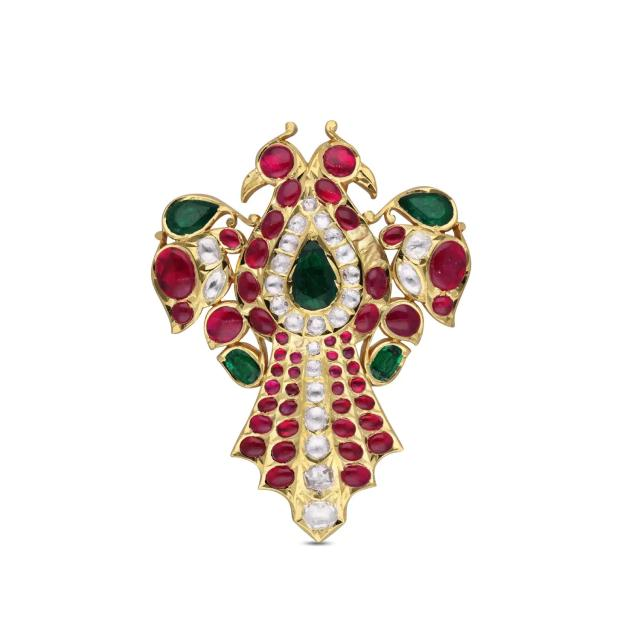missing gem: (354, 232, 381, 262), (293, 337, 303, 346)
